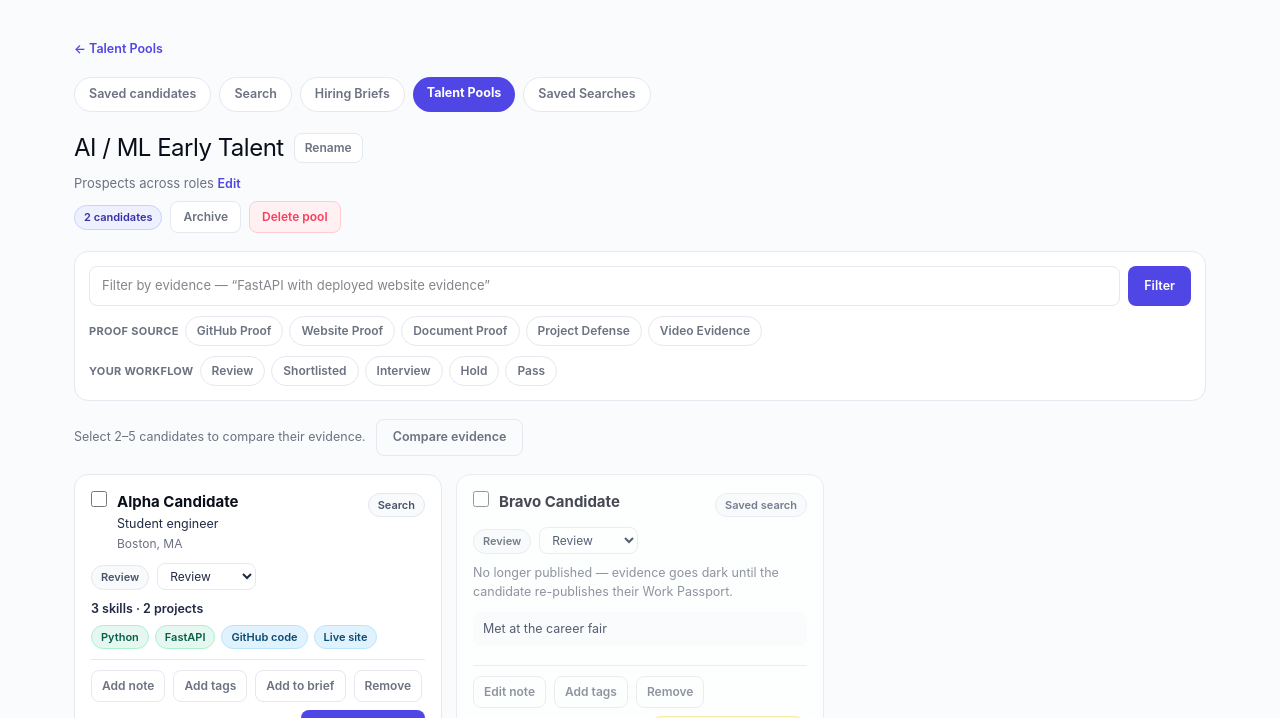
PoolDetailView › renames the pool inline
Expected: the heading "AI / ML Early Talent" is shown, [74,130,284,166]
Click the button with test id "pool-rename" at (328, 148), box [294,132,363,162]
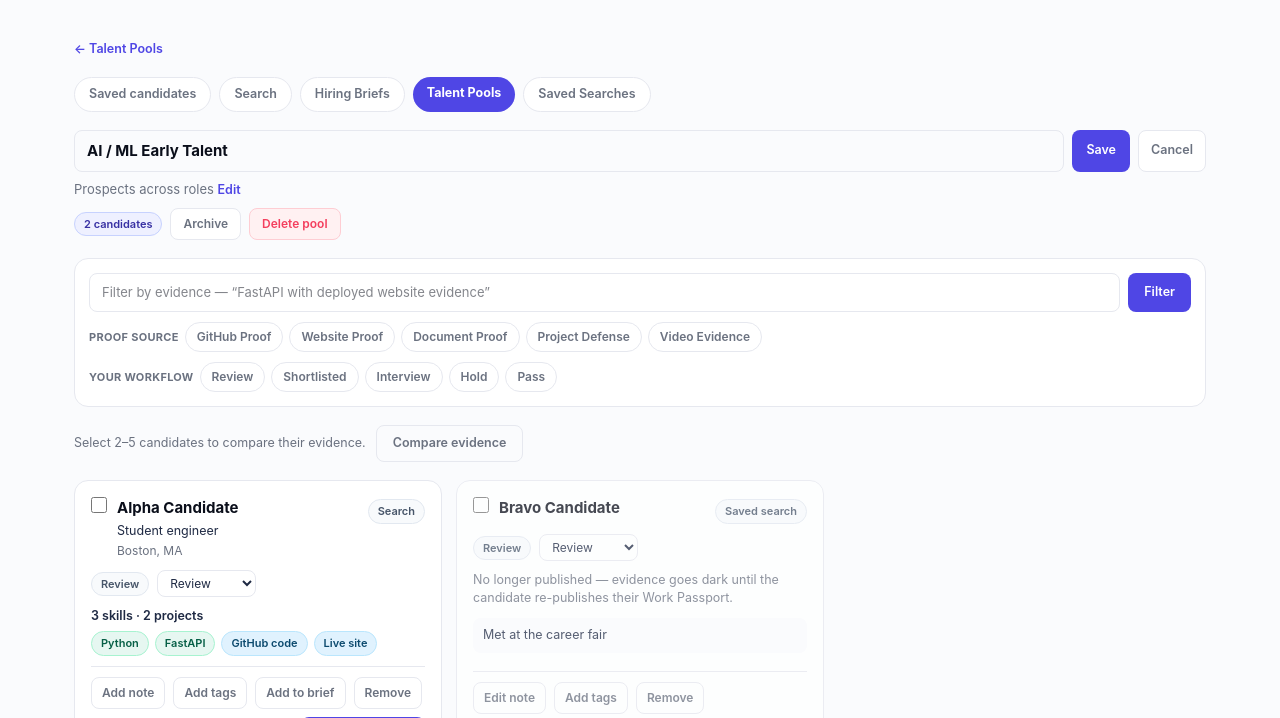
Replace the text in the field with test id "pool-rename-input" with "Renamed pool" at (569, 151), box [74,130,1064,172]
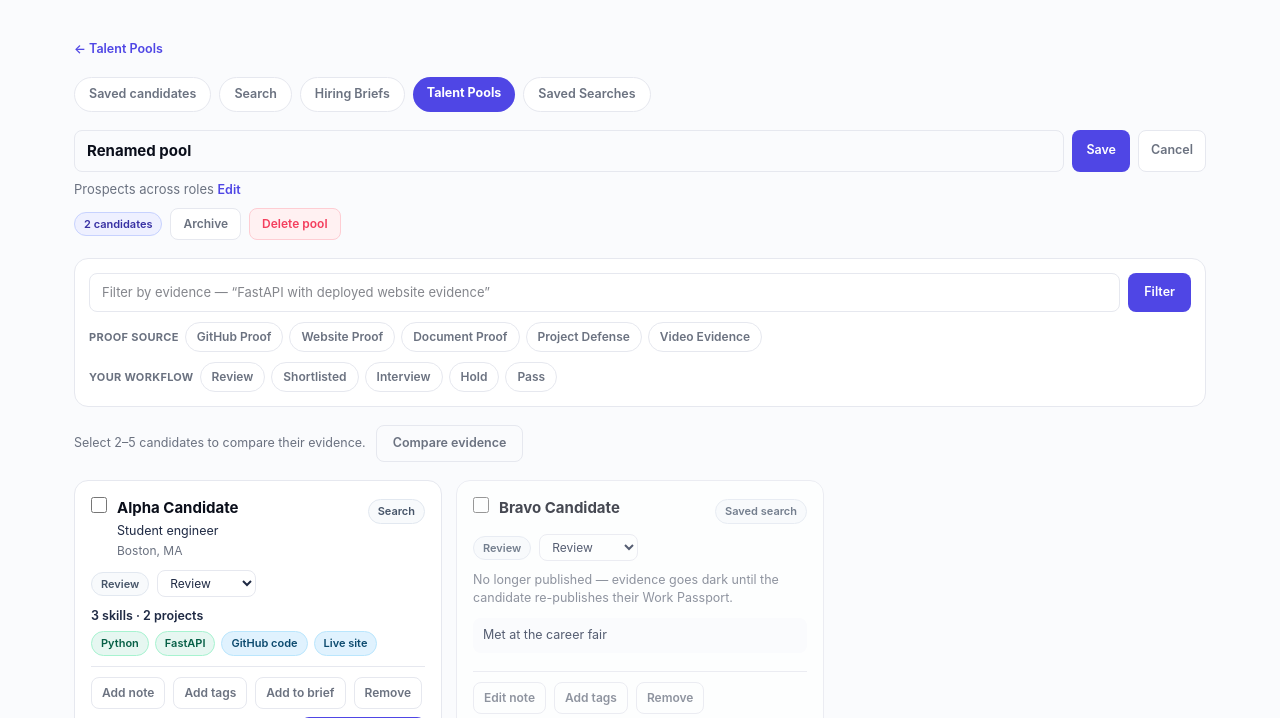
Click the button with test id "pool-rename-save" at (1101, 151), box [1072,130,1130,172]
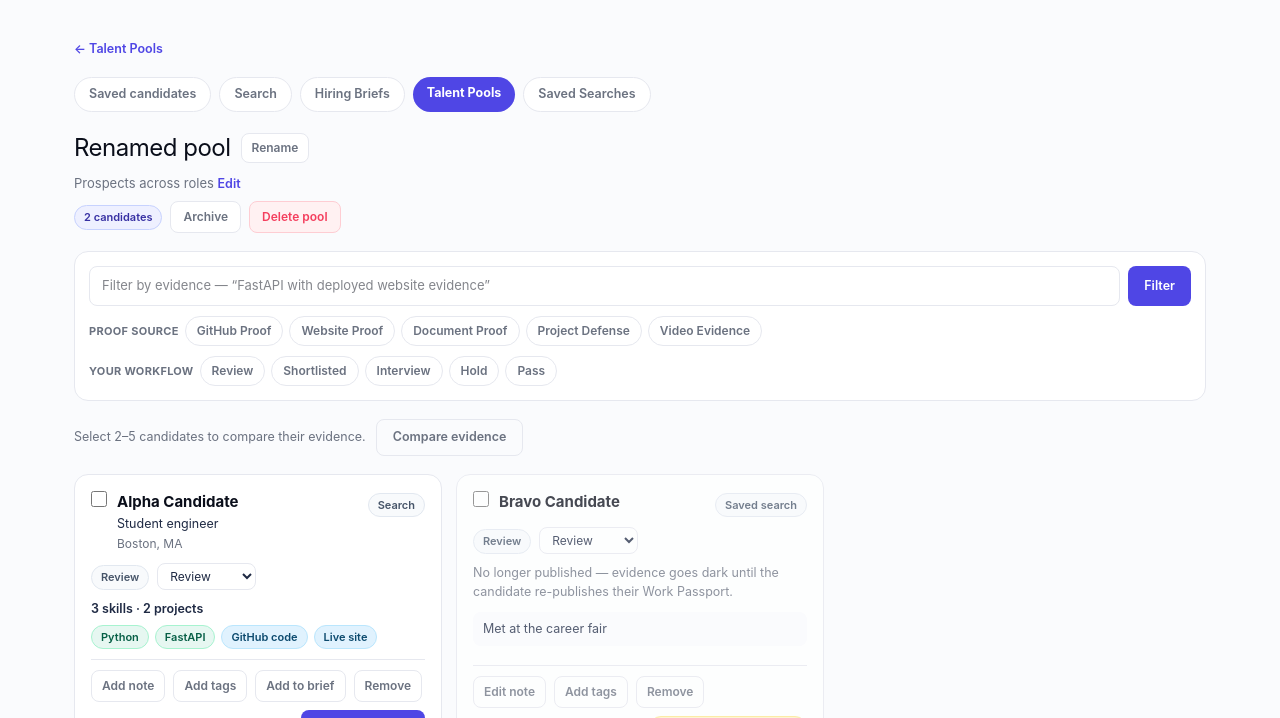
Now the heading with test id "pool-title" reads "Renamed pool", box [74,132,230,162]
